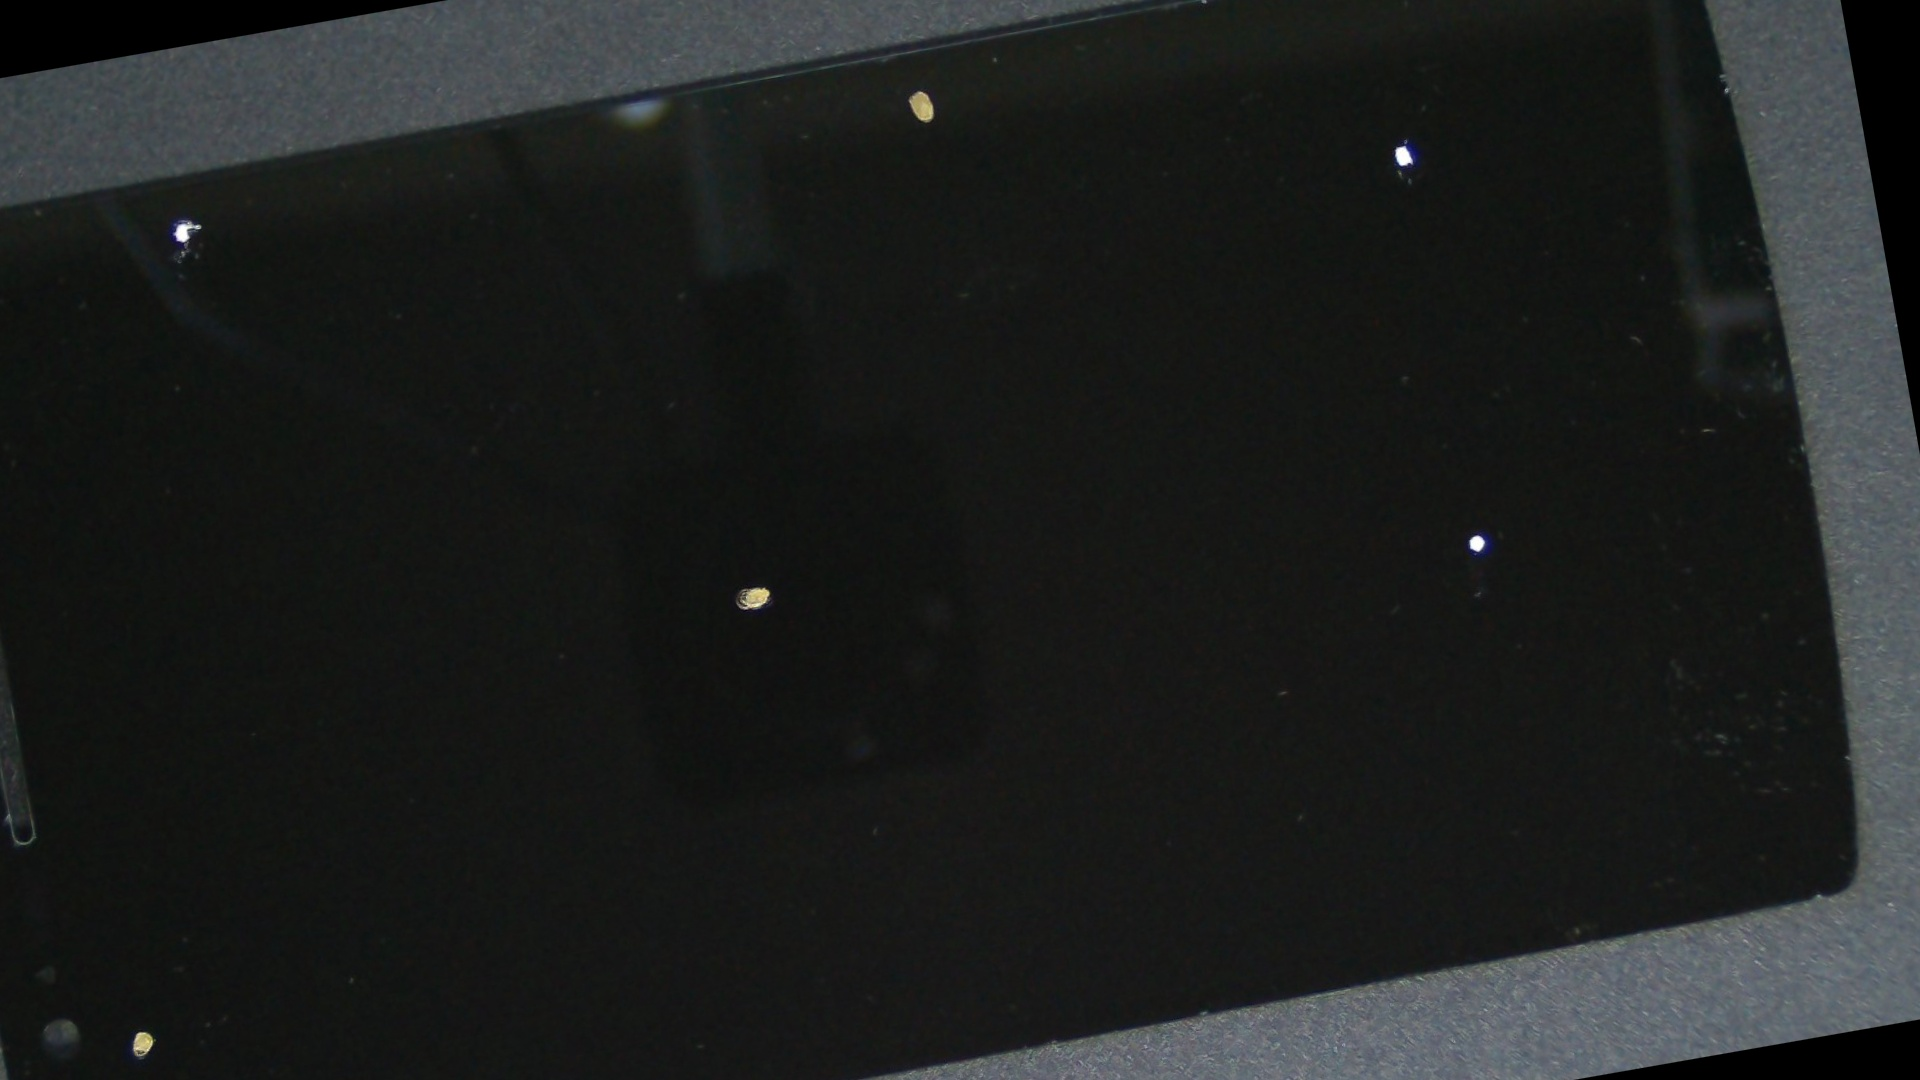oil: (609, 108, 1920, 1018), (245, 198, 1247, 975), (574, 0, 1878, 434), (331, 0, 1505, 273), (0, 538, 295, 1080), (0, 98, 389, 338)
